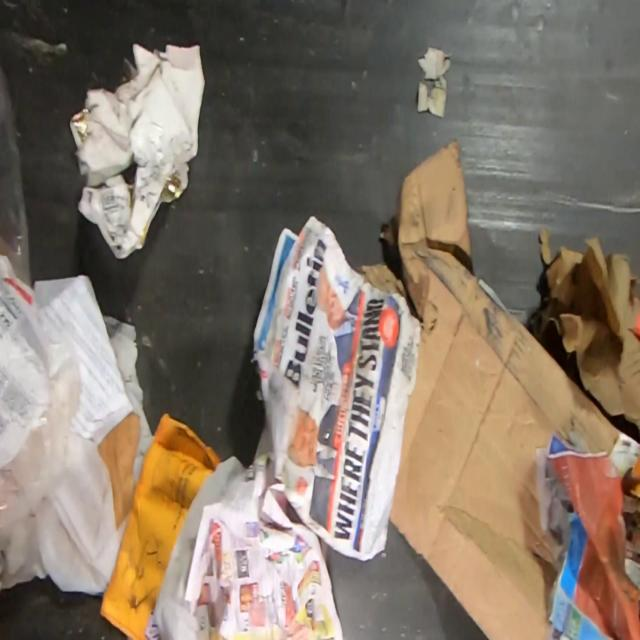cardboard: (361, 137, 619, 640), (528, 225, 640, 599)
soft_plastic: (0, 49, 81, 536)
